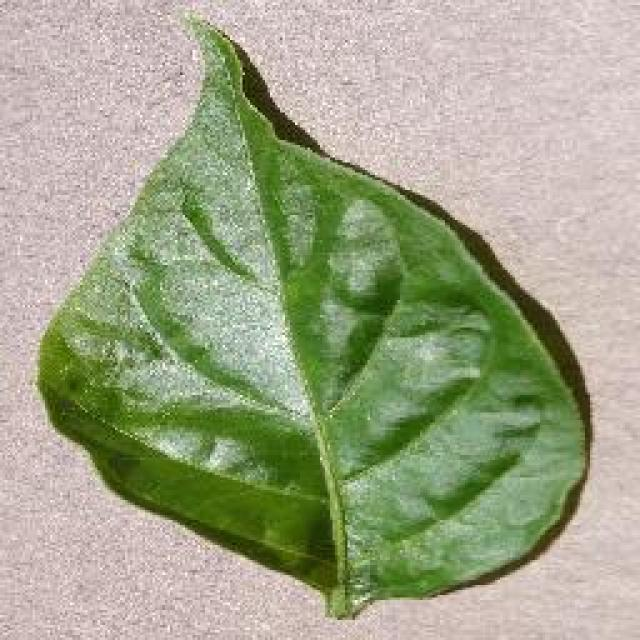Leaf: (12, 14, 592, 634)
